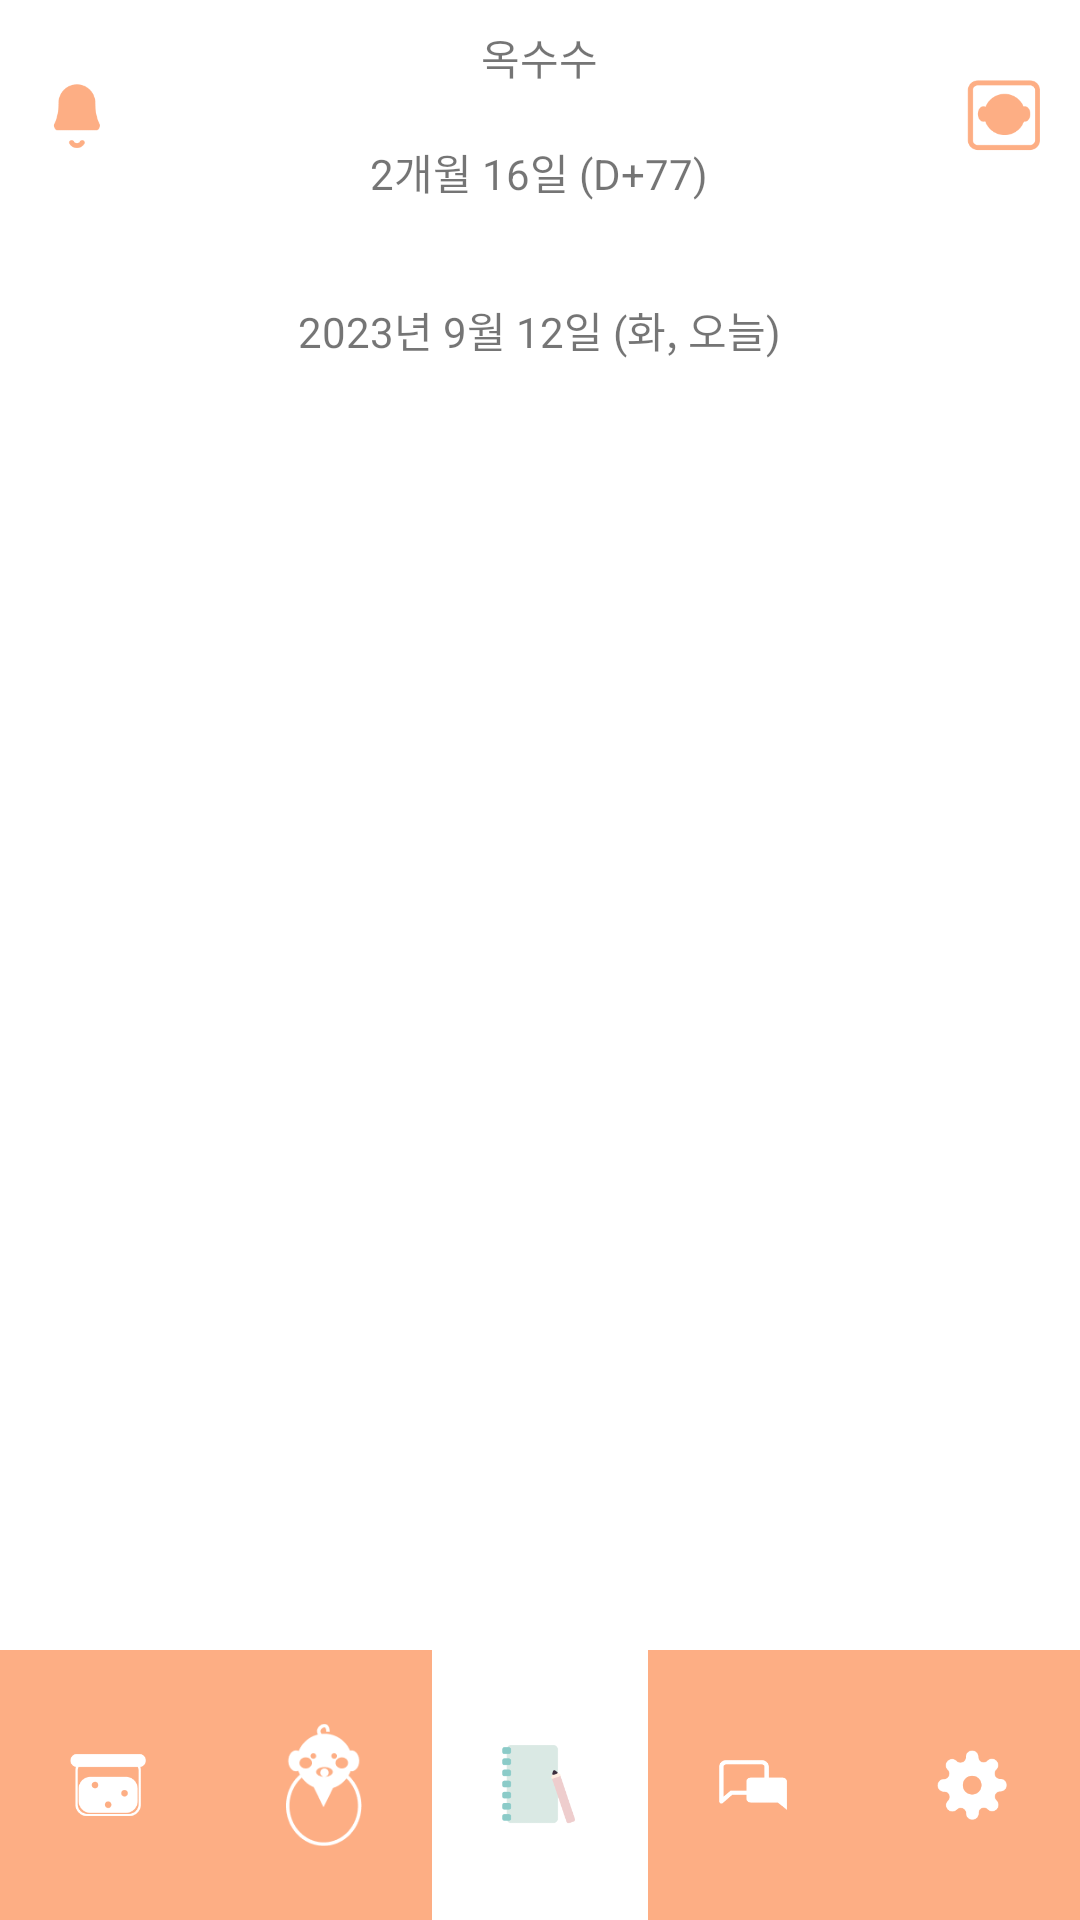

Where to tap for icons on this 1080×1920 app screen, as point (x, y):
babybutton: point (324, 1785)
babylist: point (1004, 115)
bell: point (77, 116)
communitybutton: point (753, 1785)
diarybutton: point (538, 1784)
foodbutton: point (108, 1785)
settingbutton: point (972, 1785)
